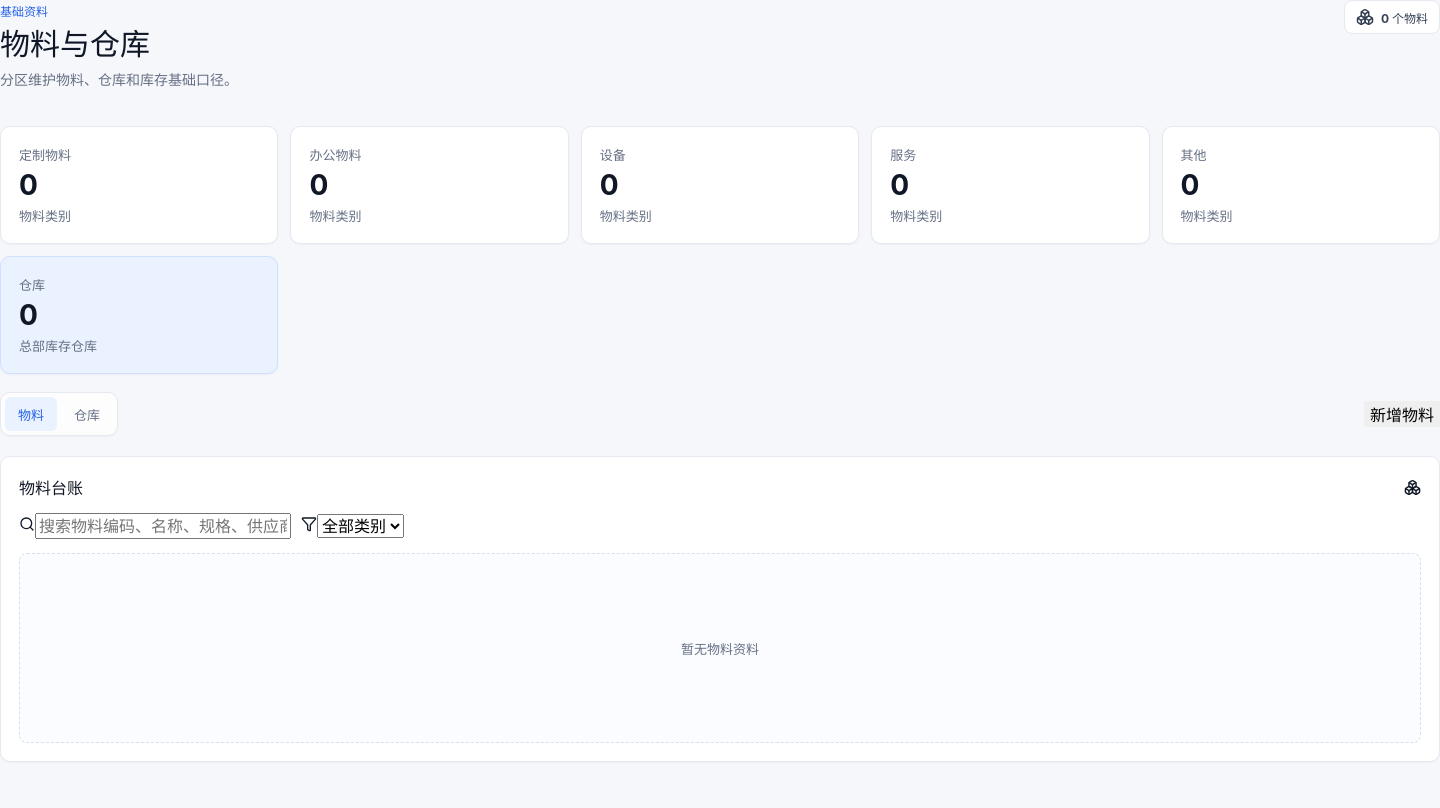
Test: 基础资料/库存 保存反馈 › 物料保存成功后弹出 toast
Expected: the text "暂无物料资料" is shown, x1=681 y1=639 x2=759 y2=658
Click the button "新增物料" at x=1402, y=414, box x1=1364 y1=402 x2=1439 y2=428
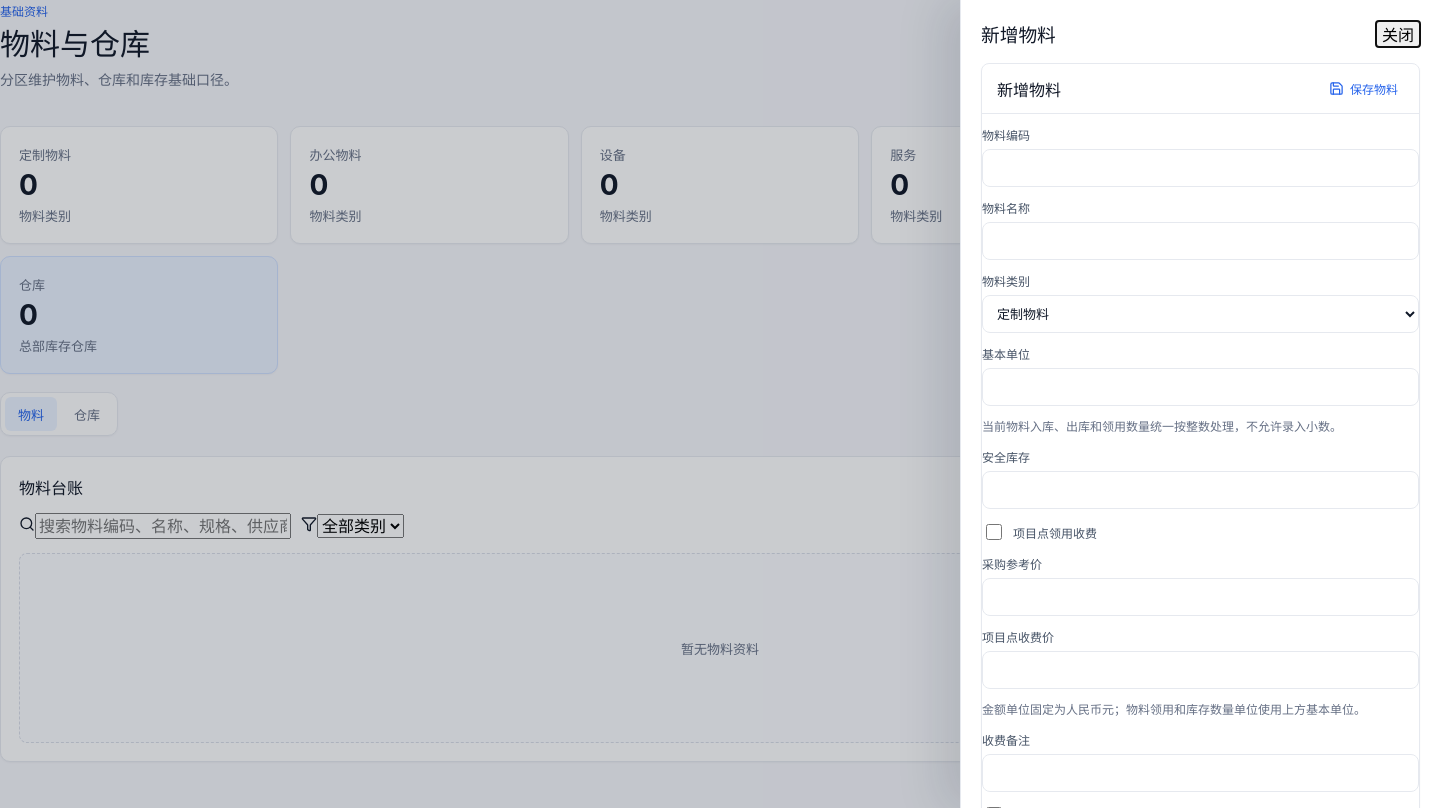
Type "MAT0002" into the field labelled "物料编码" at x=1200, y=168, box x1=982 y1=149 x2=1419 y2=187
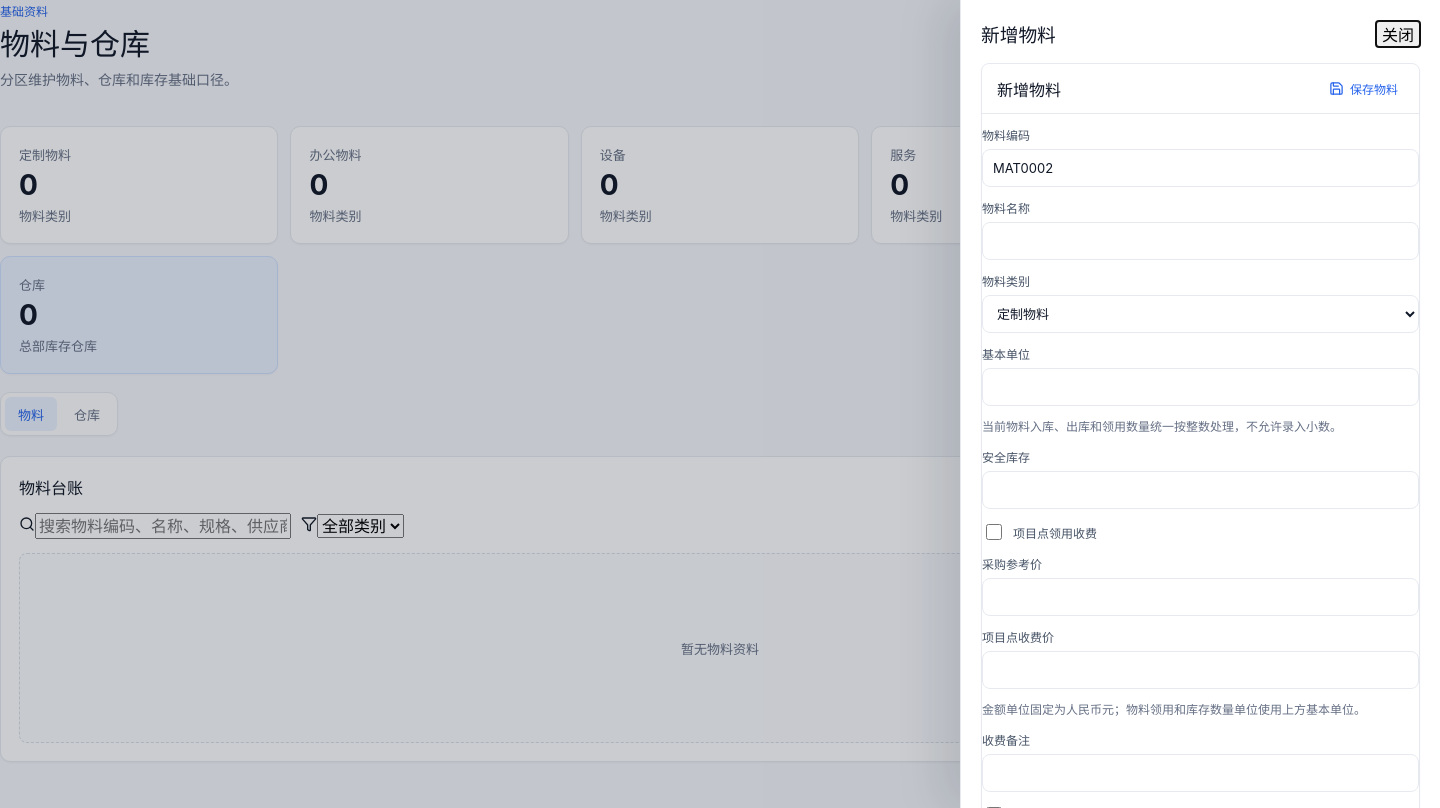
Type "定制纸杯" into the field labelled "物料名称" at x=1200, y=241, box x1=982 y1=222 x2=1419 y2=260
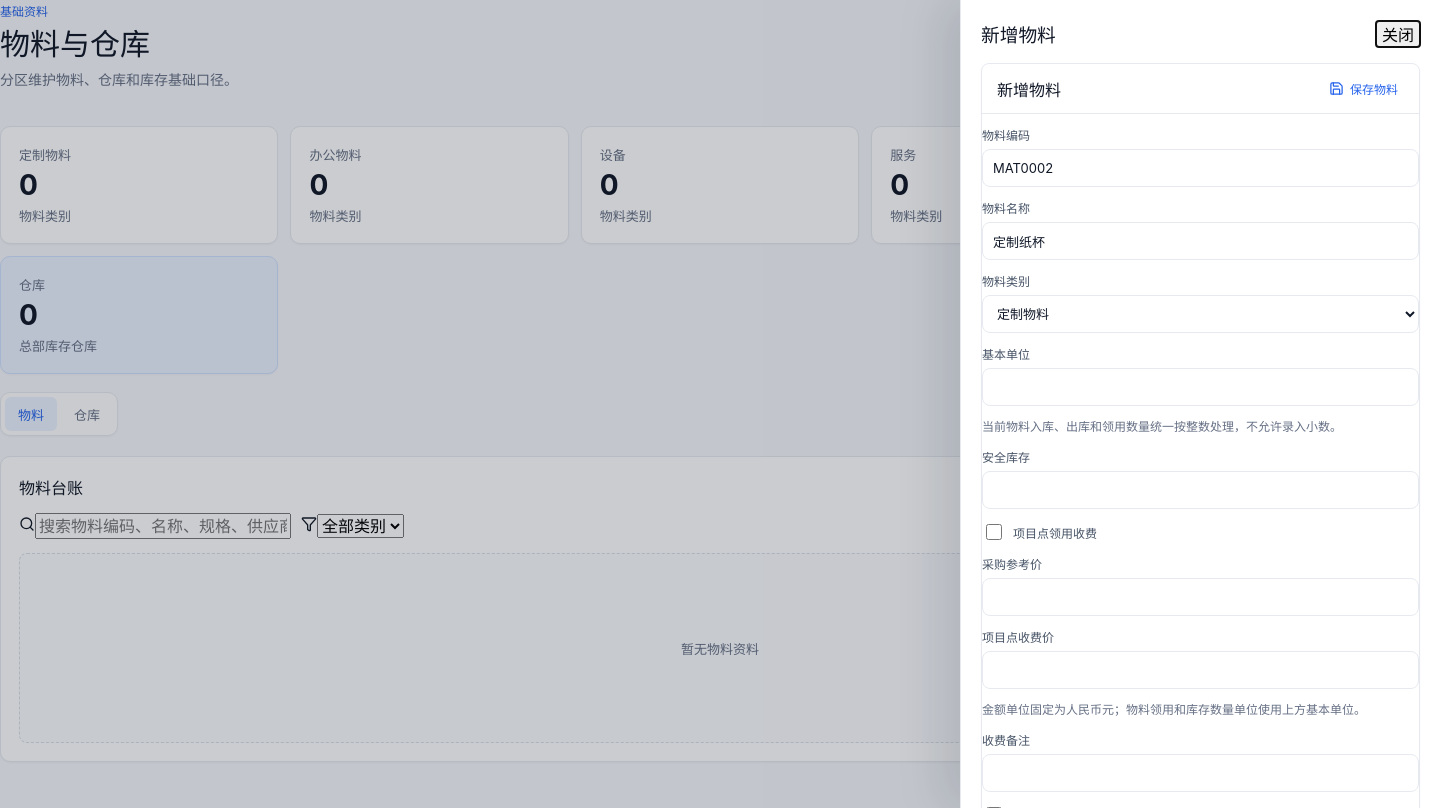
Type "箱" into the field labelled "基本单位" at x=1200, y=387, box x1=982 y1=368 x2=1419 y2=406
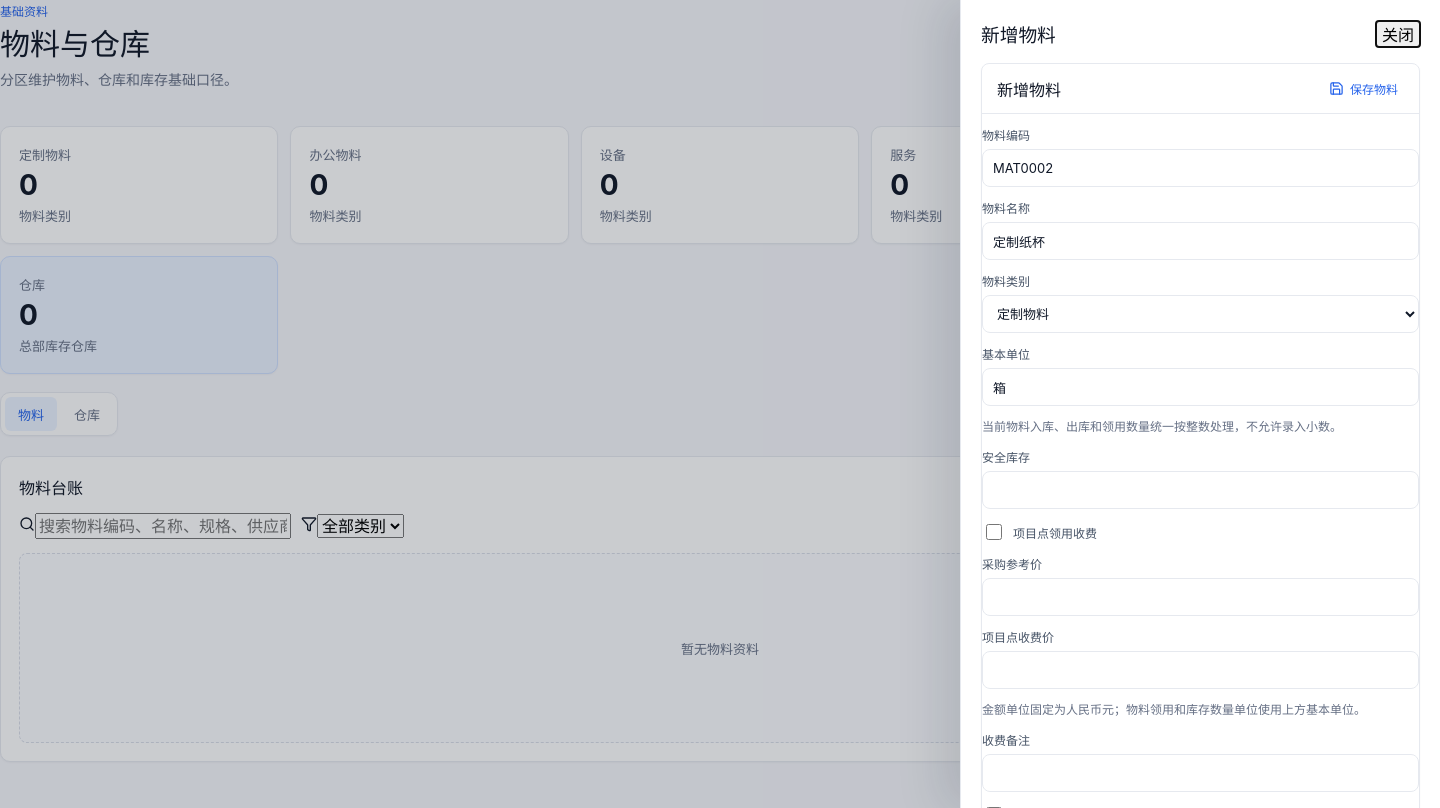
Click the button "保存物料" at x=1364, y=88, box x1=1323 y1=79 x2=1404 y2=98
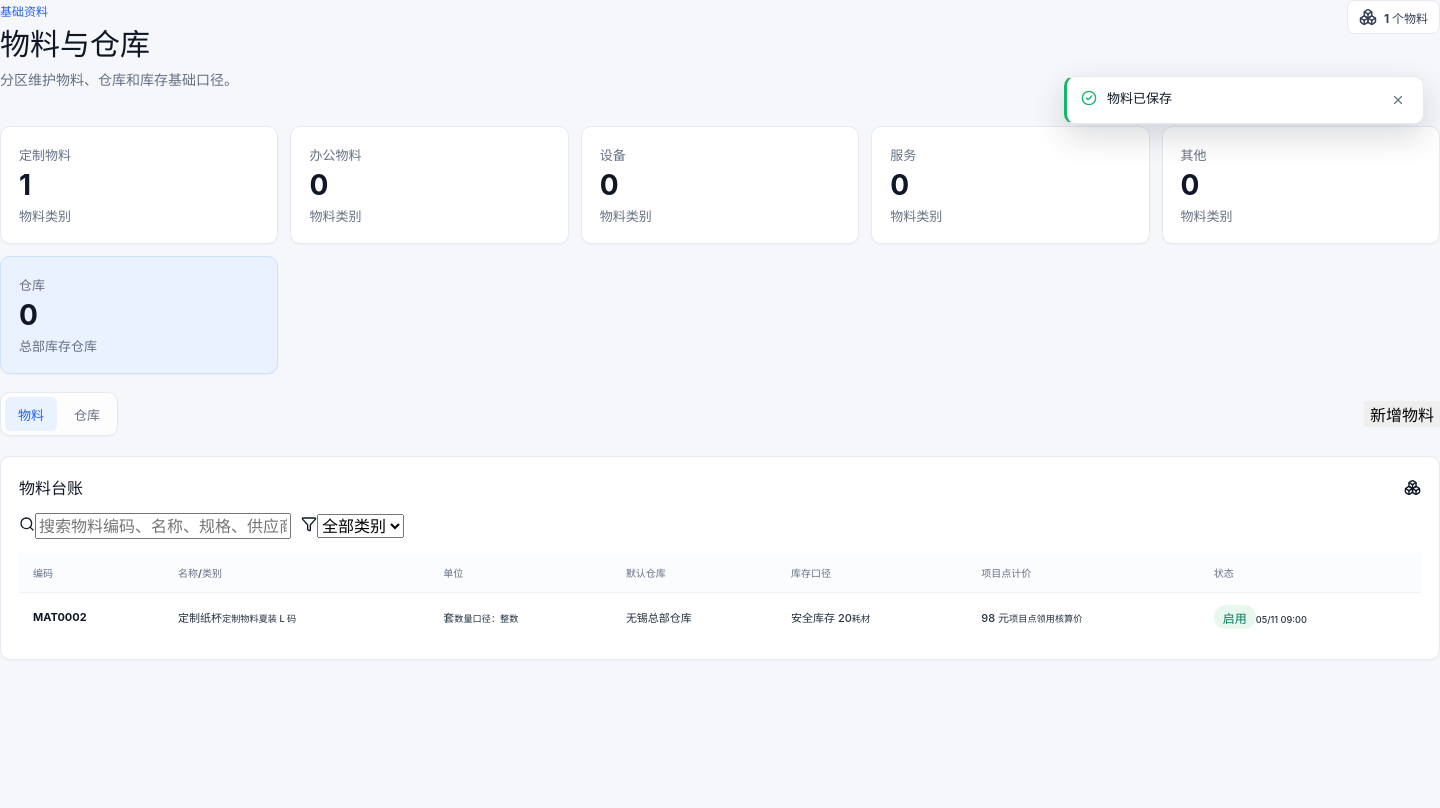
Expected: the message reads "物料已保存", x1=1107 y1=90 x2=1172 y2=106
